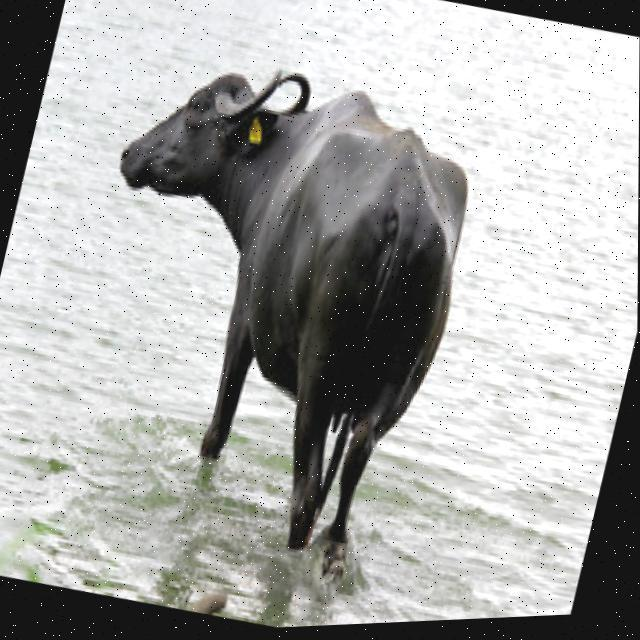Buffalo: (38, 22, 498, 581)
